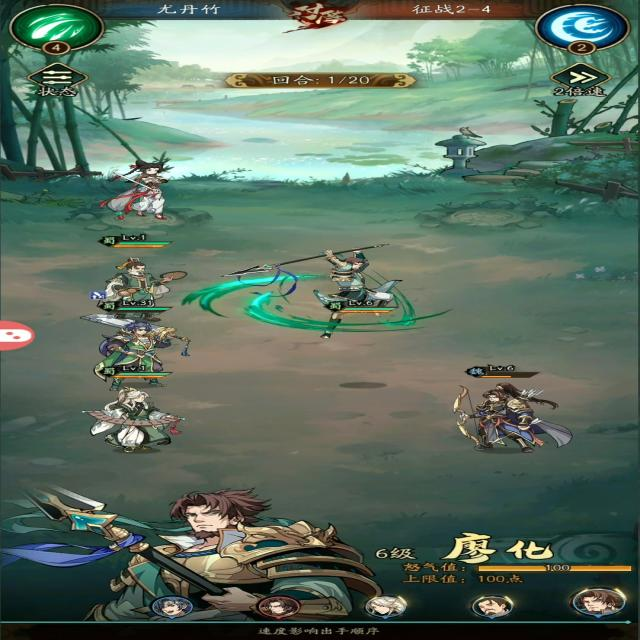hint-guide: (227, 620, 407, 640)
operation-fightspeed: (534, 60, 626, 101)
operation-state: (16, 56, 99, 101)
